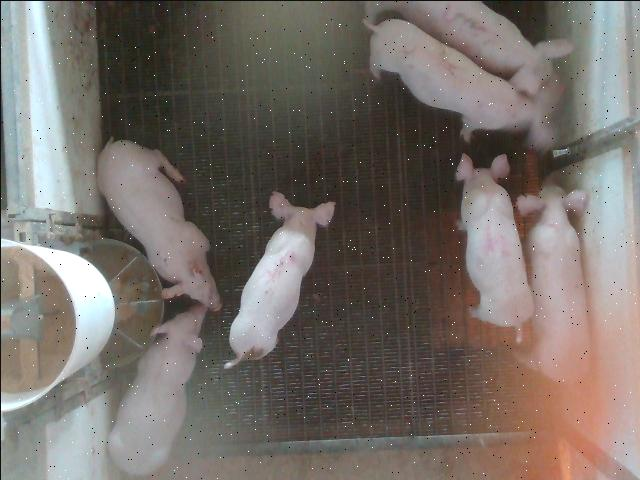pig-3: (365, 0, 571, 96)
pig-4: (455, 152, 532, 341)
pig-5: (224, 191, 334, 368)
